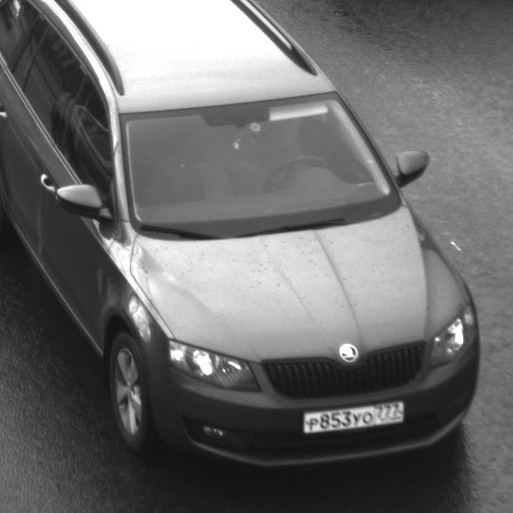plate: (292, 389, 413, 440)
